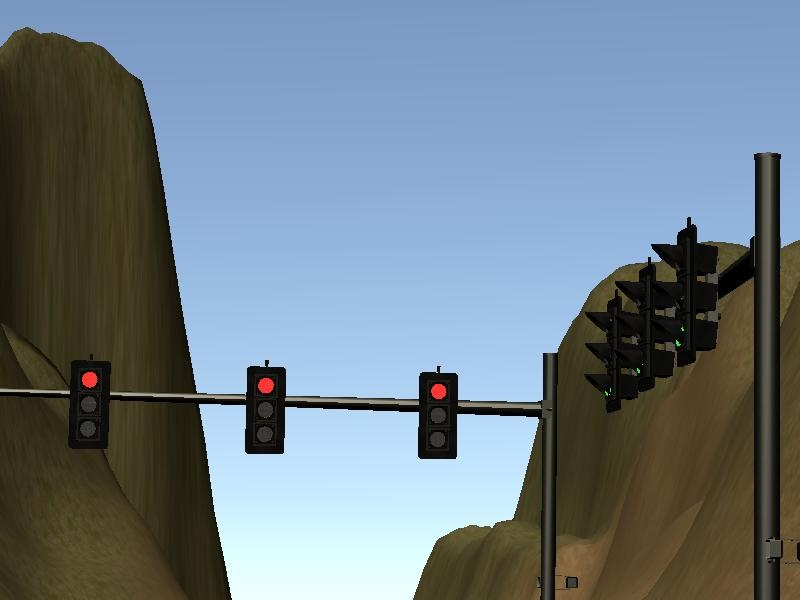red: (411, 362, 461, 462), (243, 361, 289, 459), (69, 356, 111, 453)
